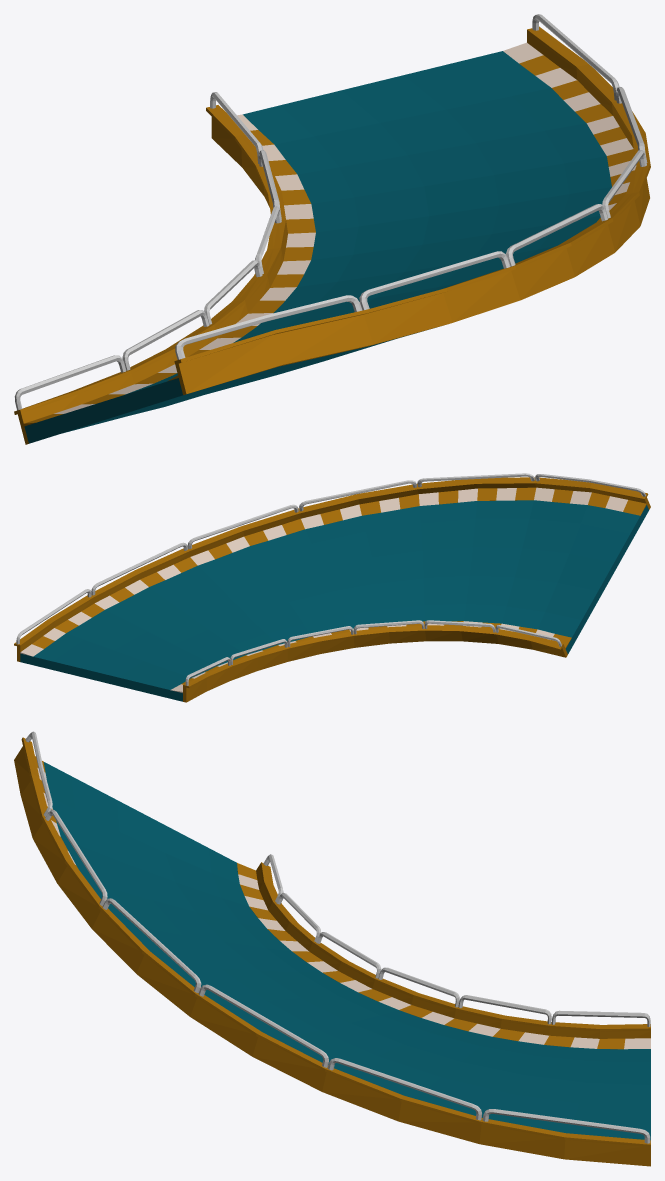
Rendered from curveRight-90-Banked-30.FBX.
3 views of the same model, one above another, from view 1: azimuth 30°, elevation 25°; view 2: azimuth 150°, elevation 25°; view 3: azimuth 270°, elevation 25° (orthographic). The views are drawn at different scales.
Parts seen in each view (by area): view 1: curvRight-90-banked-30, wall_l, wall_r, curbs_r, curbs_l; view 2: curvRight-90-banked-30, wall_l, wall_r, curbs_l, curbs_r; view 3: curvRight-90-banked-30, wall_l, wall_r, curbs_r.
Boxes of the visible parts, left/top/right/bottom form: curvRight-90-banked-30: left=24, top=51, right=611, bottom=443; wall_l: left=174, top=14, right=650, bottom=394; wall_r: left=14, top=92, right=287, bottom=444; curbs_r: left=24, top=114, right=315, bottom=426; curbs_l: left=167, top=42, right=636, bottom=381; curvRight-90-banked-30: left=20, top=500, right=648, bottom=701; wall_l: left=14, top=473, right=650, bottom=661; wall_r: left=183, top=620, right=567, bottom=702; curbs_l: left=20, top=487, right=646, bottom=656; curbs_r: left=170, top=621, right=571, bottom=692; curvRight-90-banked-30: left=43, top=762, right=650, bottom=1140; wall_l: left=14, top=731, right=650, bottom=1166; wall_r: left=256, top=854, right=650, bottom=1038; curbs_r: left=237, top=863, right=650, bottom=1049.
Size of what is drawn, in the model's own units: 485 by 129 by 461.
